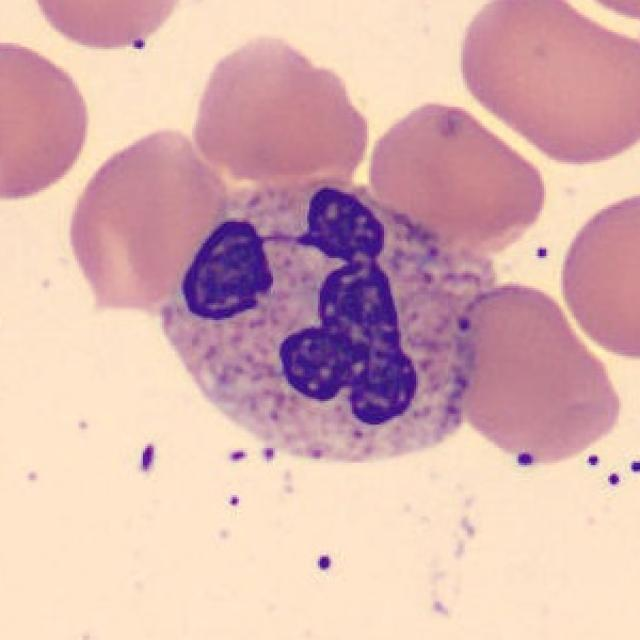White Blood Cell: (165, 189, 491, 459)
